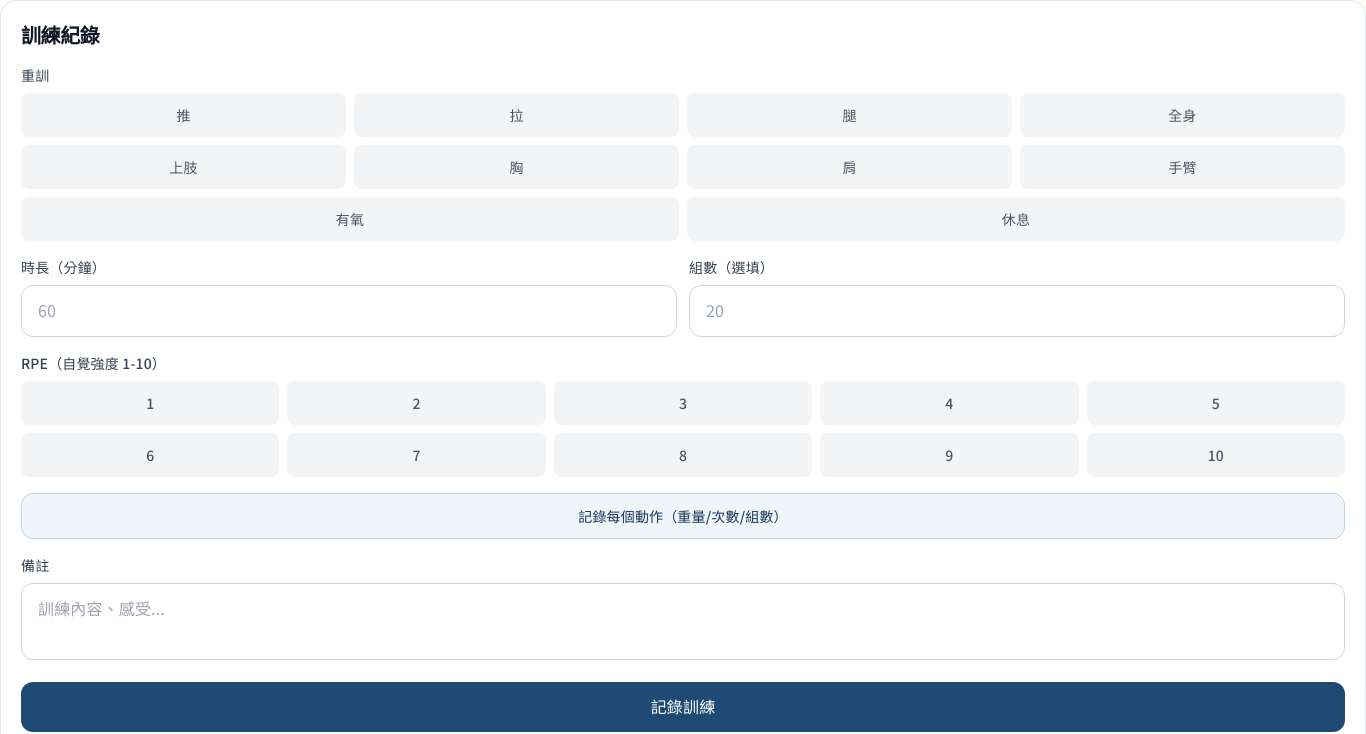
Test case: TrainingLog › shows carb cycling hint when enabled and type is selected
Click the button "推". click: coordinates (184, 115)
box: [21,93,346,137]
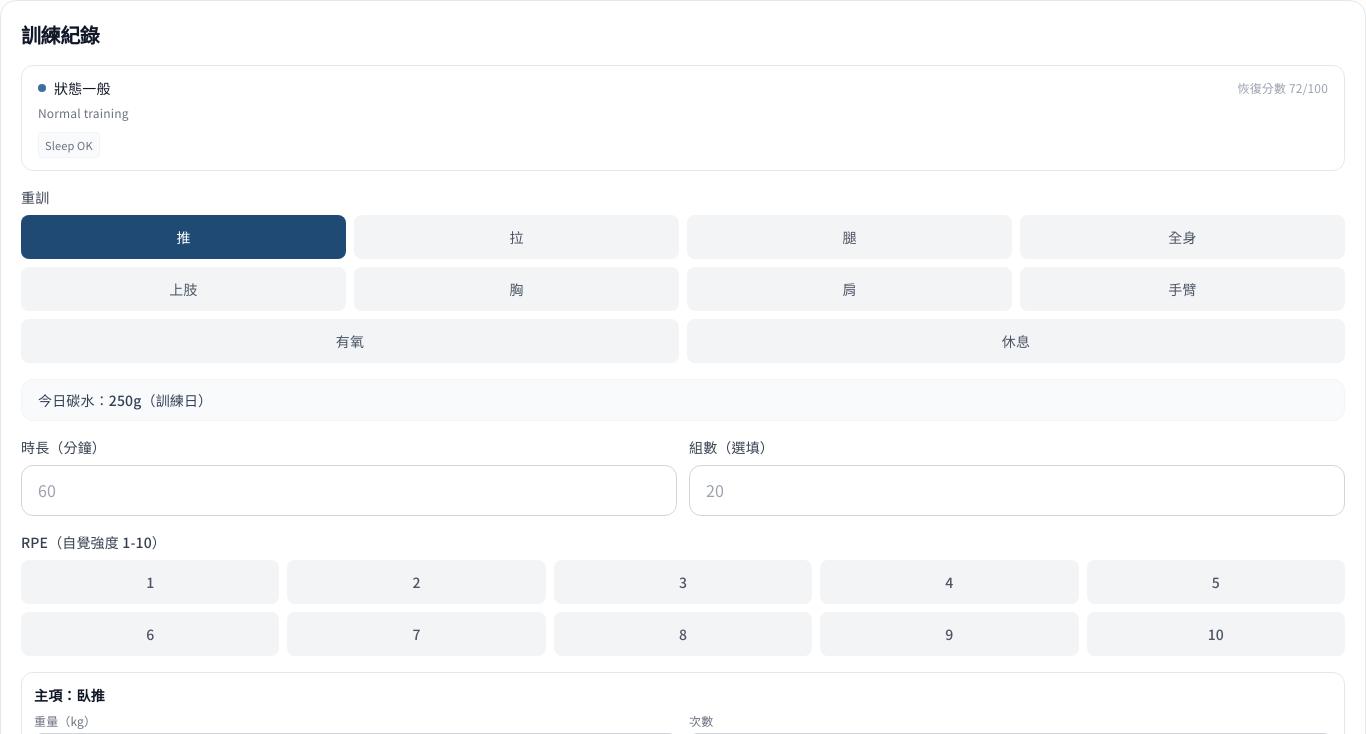
expect the text "今日碳水：250g（訓練日）" is shown: met, box [21,379,1345,421]
